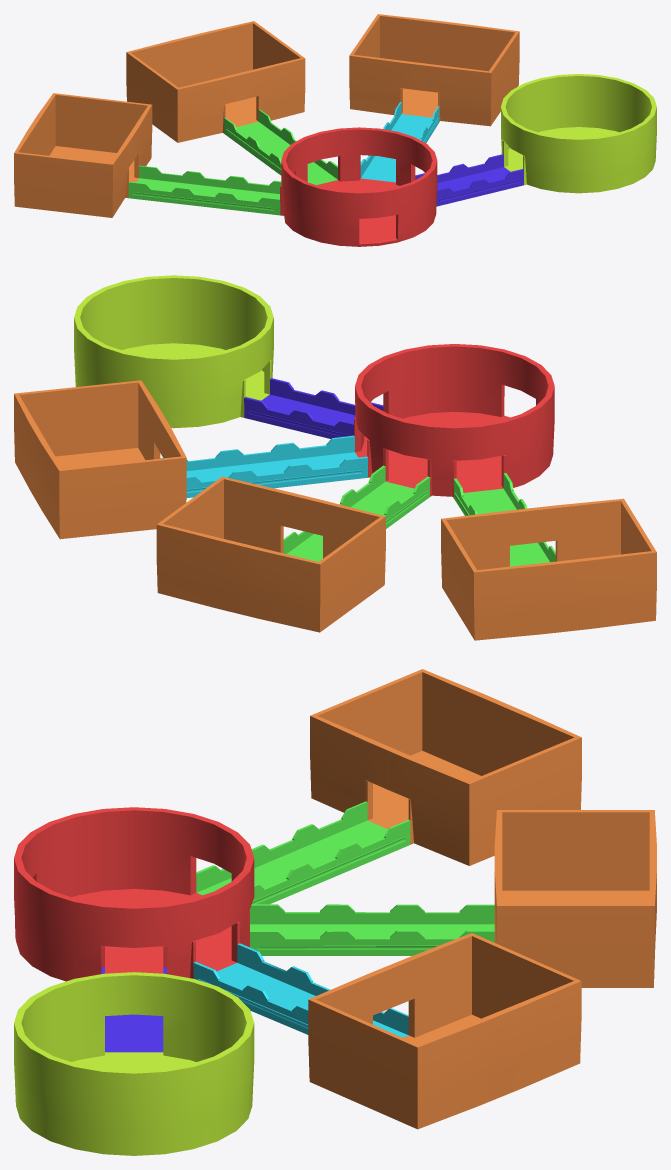
The model's file is BunkerFloorPlan_Split.fbx.
The picture shows the model from 3 angles, top to bottom: view 1: azimuth 30°, elevation 25°; view 2: azimuth 150°, elevation 25°; view 3: azimuth 270°, elevation 25°; orthographic projection. The views are drawn at different scales.
Parts seen in each view (by area): view 1: Room004, Room002, Room003, Room000, Room001, Path001, Path002, Path004, Path003; view 2: Room002, Room000, Room001, Room004, Room003, Path003, Path004, Path002, Path001; view 3: Room003, Room004, Room000, Room001, Room002, Path002, Path001, Path003, Path004.
Boxes of the visible parts, x1=… form: Room004: x1=501, y1=74, x2=656, y2=193; Room002: x1=126, y1=21, x2=305, y2=142; Room003: x1=349, y1=14, x2=519, y2=126; Room000: x1=280, y1=127, x2=437, y2=246; Room001: x1=14, y1=93, x2=152, y2=217; Path001: x1=128, y1=165, x2=281, y2=215; Path002: x1=224, y1=109, x2=337, y2=184; Path004: x1=415, y1=154, x2=523, y2=206; Path003: x1=360, y1=102, x2=439, y2=182; Room002: x1=156, y1=476, x2=385, y2=632; Room000: x1=354, y1=344, x2=554, y2=498; Room001: x1=441, y1=498, x2=656, y2=640; Room004: x1=74, y1=275, x2=273, y2=428; Room003: x1=14, y1=380, x2=186, y2=539; Path003: x1=160, y1=435, x2=367, y2=497; Path004: x1=244, y1=378, x2=383, y2=438; Path002: x1=283, y1=465, x2=430, y2=561; Path001: x1=453, y1=473, x2=555, y2=566; Room003: x1=308, y1=933, x2=581, y2=1129; Room004: x1=14, y1=972, x2=254, y2=1155; Room000: x1=14, y1=807, x2=254, y2=981; Room001: x1=310, y1=669, x2=581, y2=865; Room002: x1=494, y1=810, x2=656, y2=987; Path002: x1=250, y1=904, x2=494, y2=955; Path001: x1=196, y1=801, x2=410, y2=904; Path003: x1=193, y1=943, x2=408, y2=1037; Path004: x1=101, y1=967, x2=166, y2=1052.
Size of the model in its own units: 435 by 42.74 by 292.
